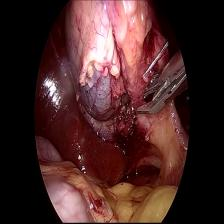Clipper: (131, 48, 190, 126)
